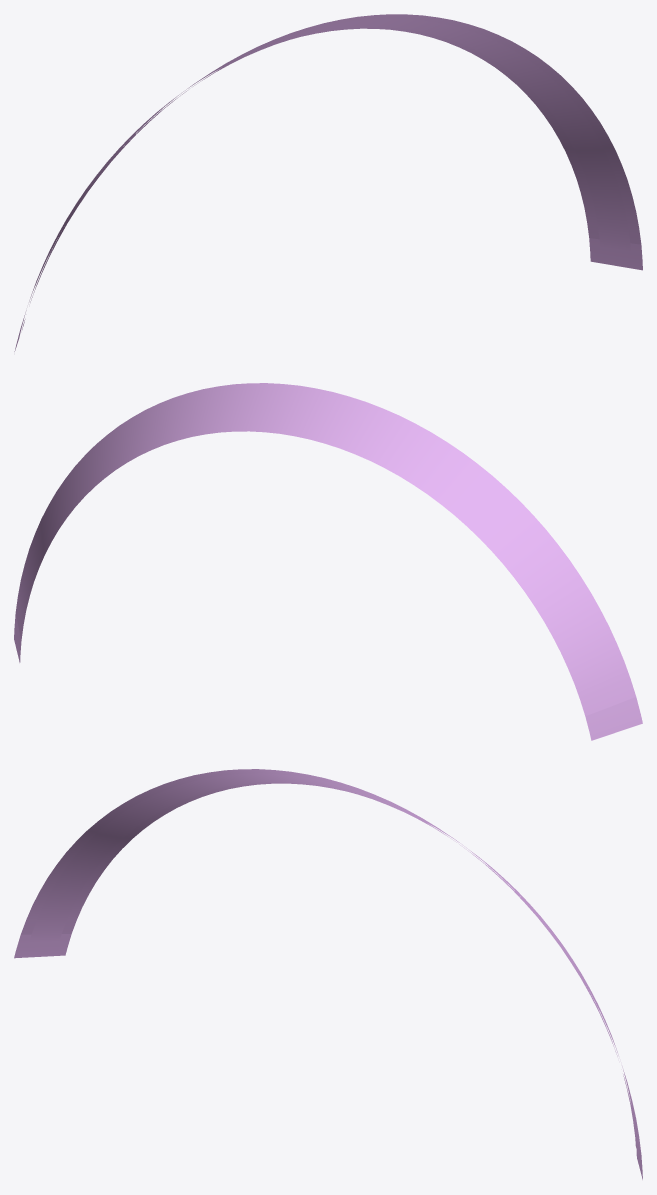
File: Mesh_Note_28.fbx
3 renders of one model, top to bottom at view 1: azimuth 30°, elevation 25°; view 2: azimuth 150°, elevation 25°; view 3: azimuth 330°, elevation 25°, orthographic.
Visible parts, largest first — view 1: Mesh_Note_28; view 2: Mesh_Note_28; view 3: Mesh_Note_28.
Part boxes in pixels (x1,y1,x2,y2): Mesh_Note_28: (14, 14, 642, 351); Mesh_Note_28: (14, 383, 642, 740); Mesh_Note_28: (14, 769, 642, 1179).
Size of the model in its own units: 3.51 by 1.74 by 0.2235.
